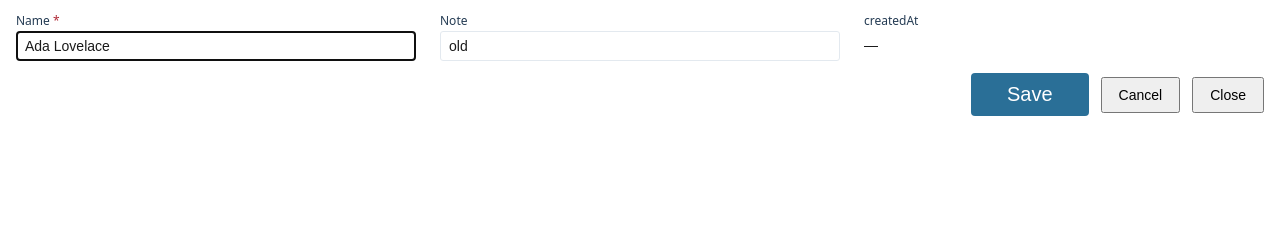
saving (REQ-032/033, DB-S12) › places a 422's server errors inline at their fields
This screenshot has width=1280, height=227.
Replace the text in the field labelled "Note" with "new" at (640, 46), box [440,31,840,61]
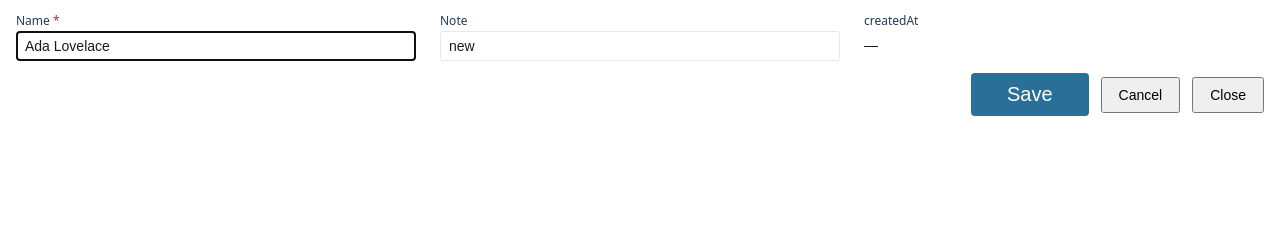
Click the button "Save" at (1030, 94), box [971,73,1089,116]
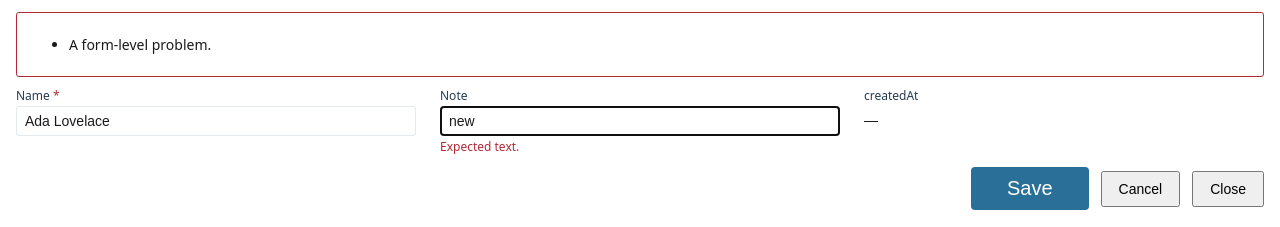
Now the text "Expected text." is shown, box [440,138,519,155]
Now the list item "A form-level problem." is shown, box [69,35,211,54]
